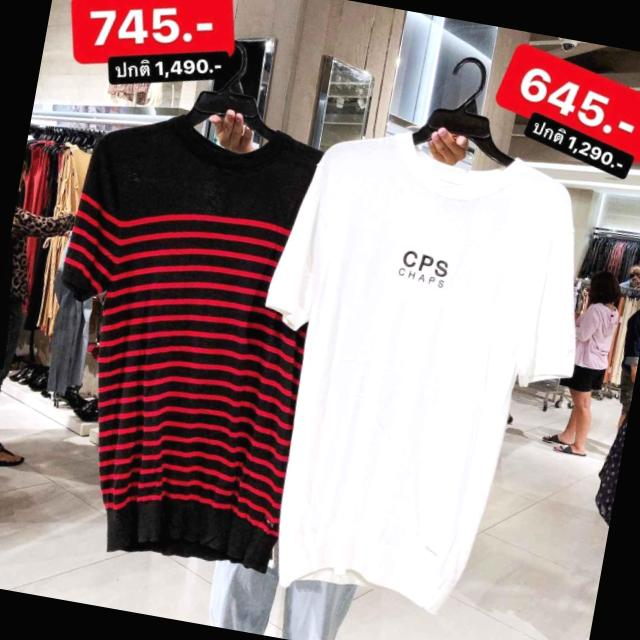Tshirt: (238, 120, 605, 614), (11, 92, 345, 574)
